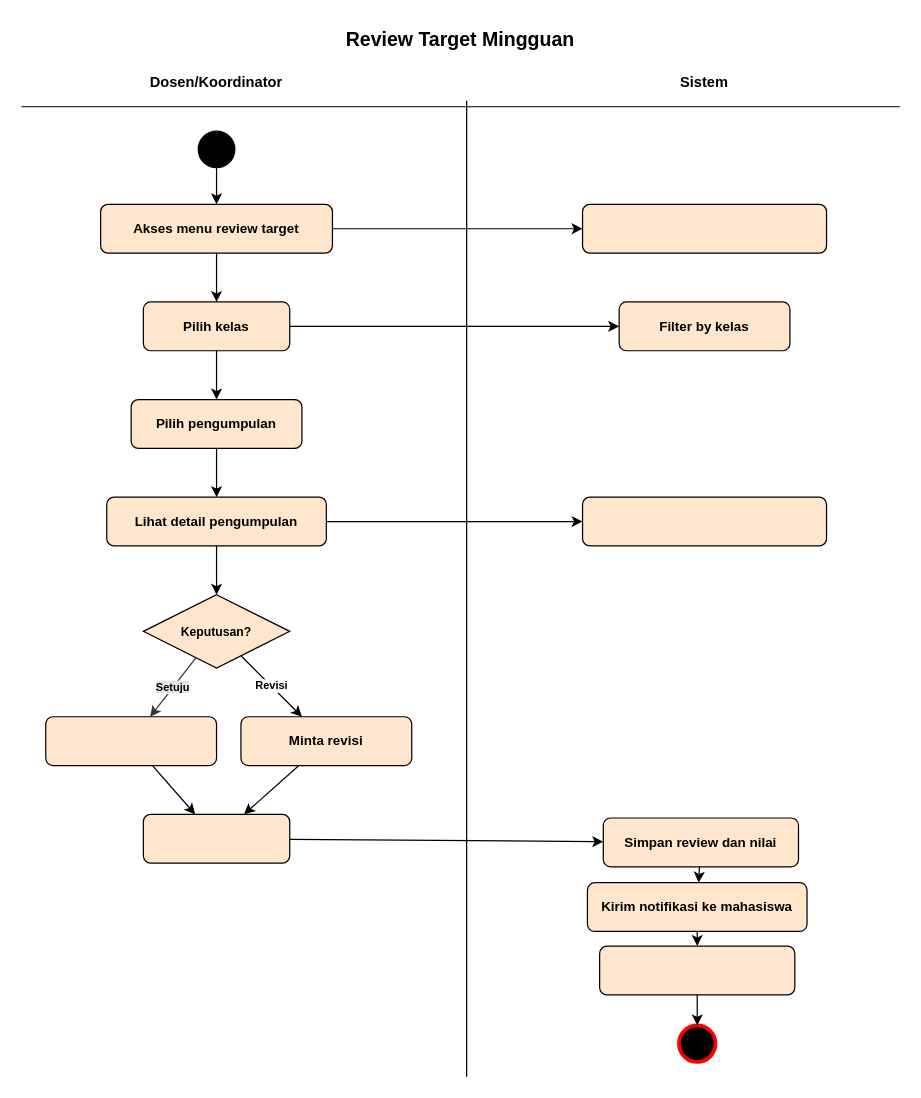
This 921x1098 diagram has some shape labels left out. Each missing label, with the centre of its shape:
Setujui dan beri nilai: (x=131, y=741)
Submit review: (x=216, y=838)
Tampilkan daftar pengumpulan: (x=704, y=228)
Tampilkan detail pengumpulan: (x=704, y=521)
Tampilkan notifikasi sukses: (x=696, y=970)
